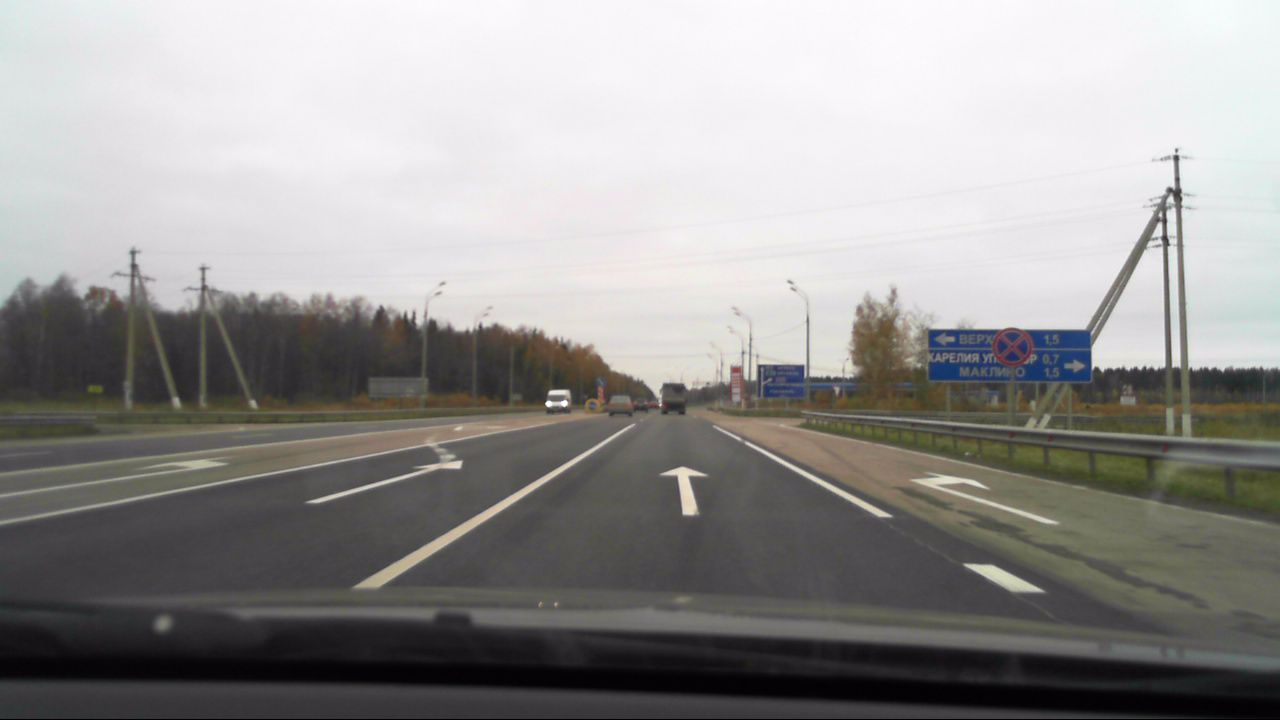No Parking: (991, 327, 1035, 366)
